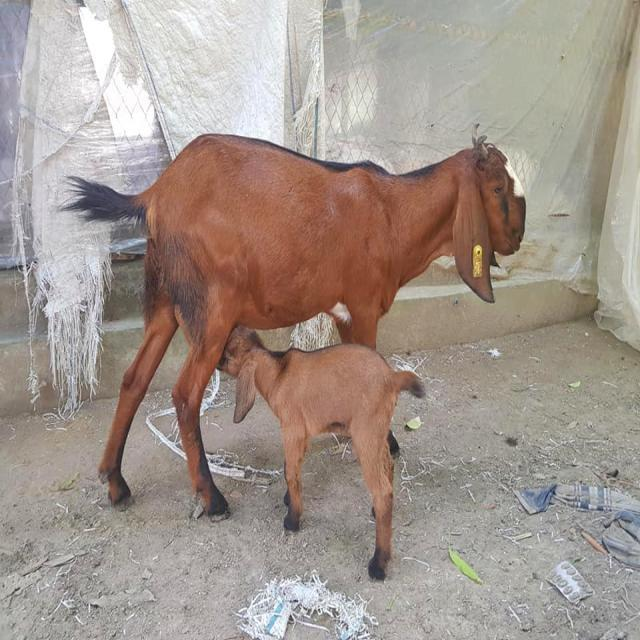Goat: (56, 123, 527, 522), (215, 323, 426, 581)
